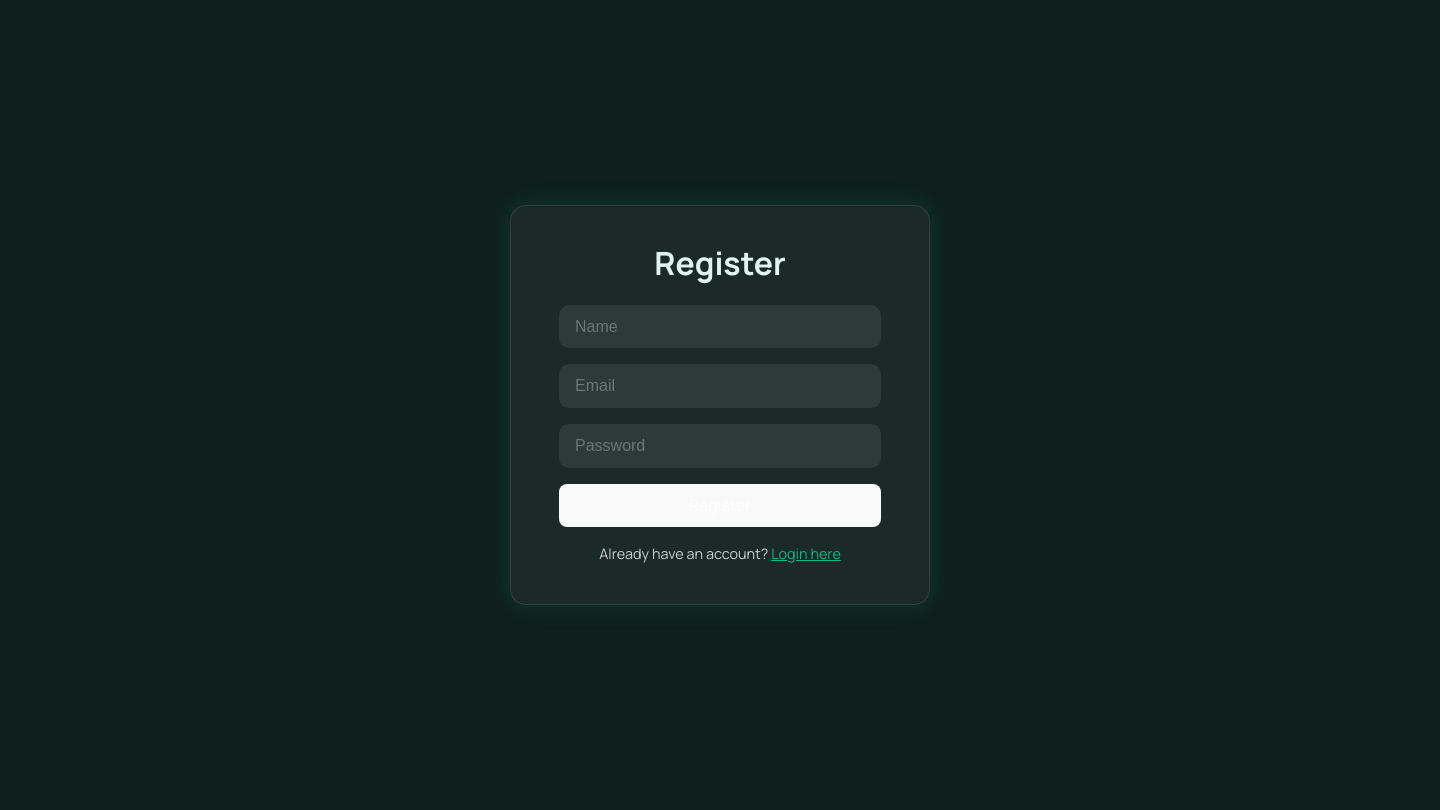
it: Register component › shows error on register failure
Type "John" into the field with placeholder "Name" at (720, 327), box 559,305 -> 881,348
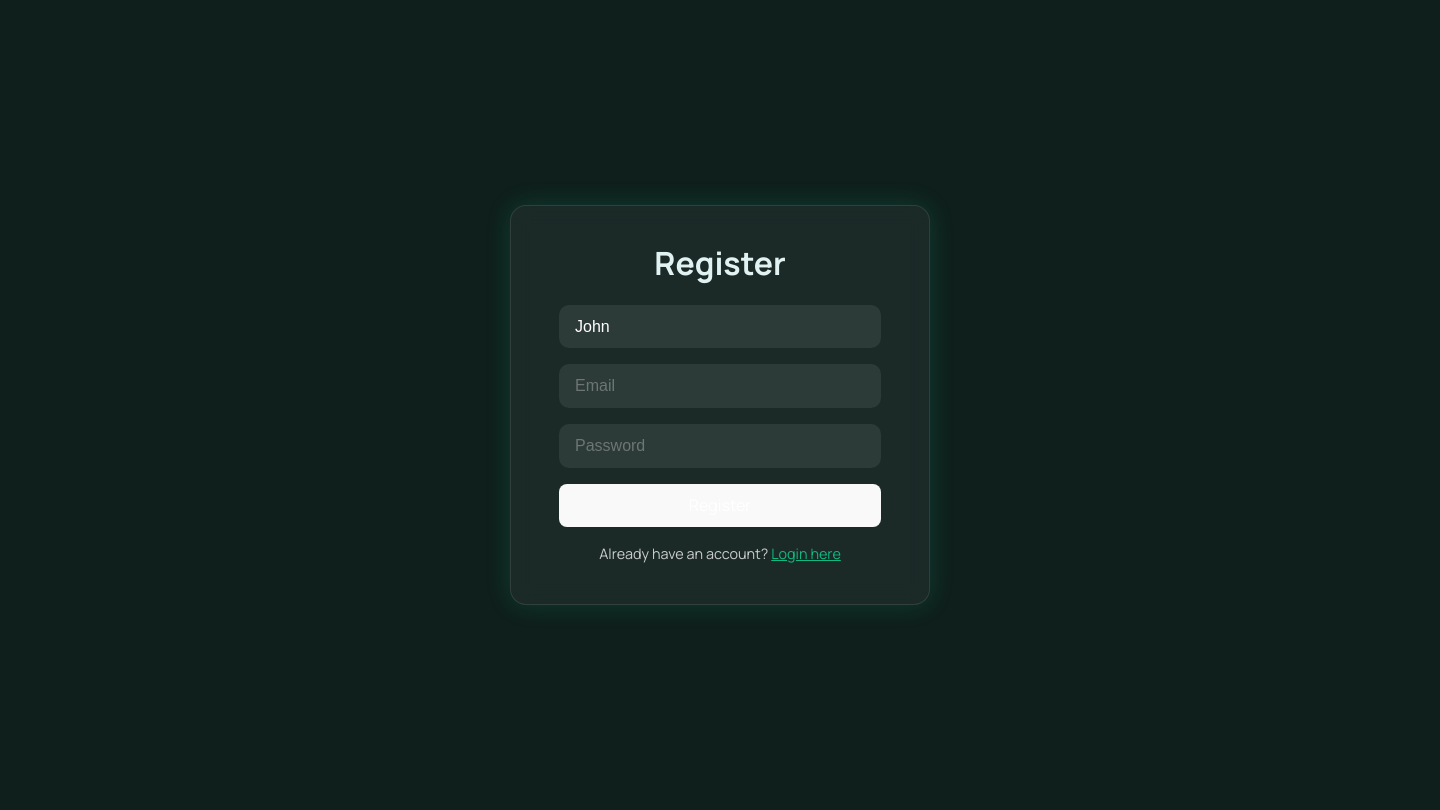
Type "john@example.com" into the field with placeholder "Email" at (720, 386), box 559,364 -> 881,408
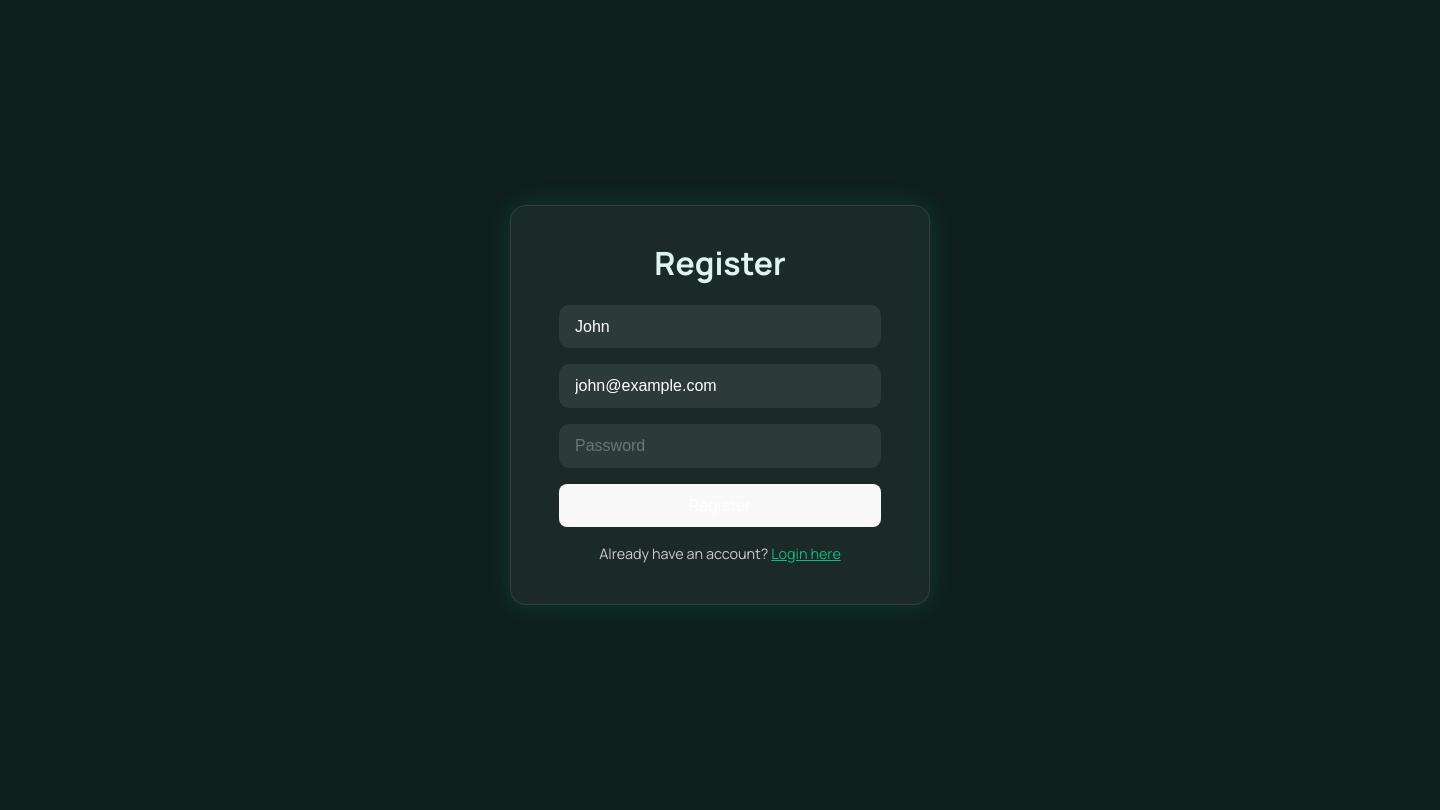
Type "password123" into the password field with placeholder "Password" at (720, 446), box 559,424 -> 881,468
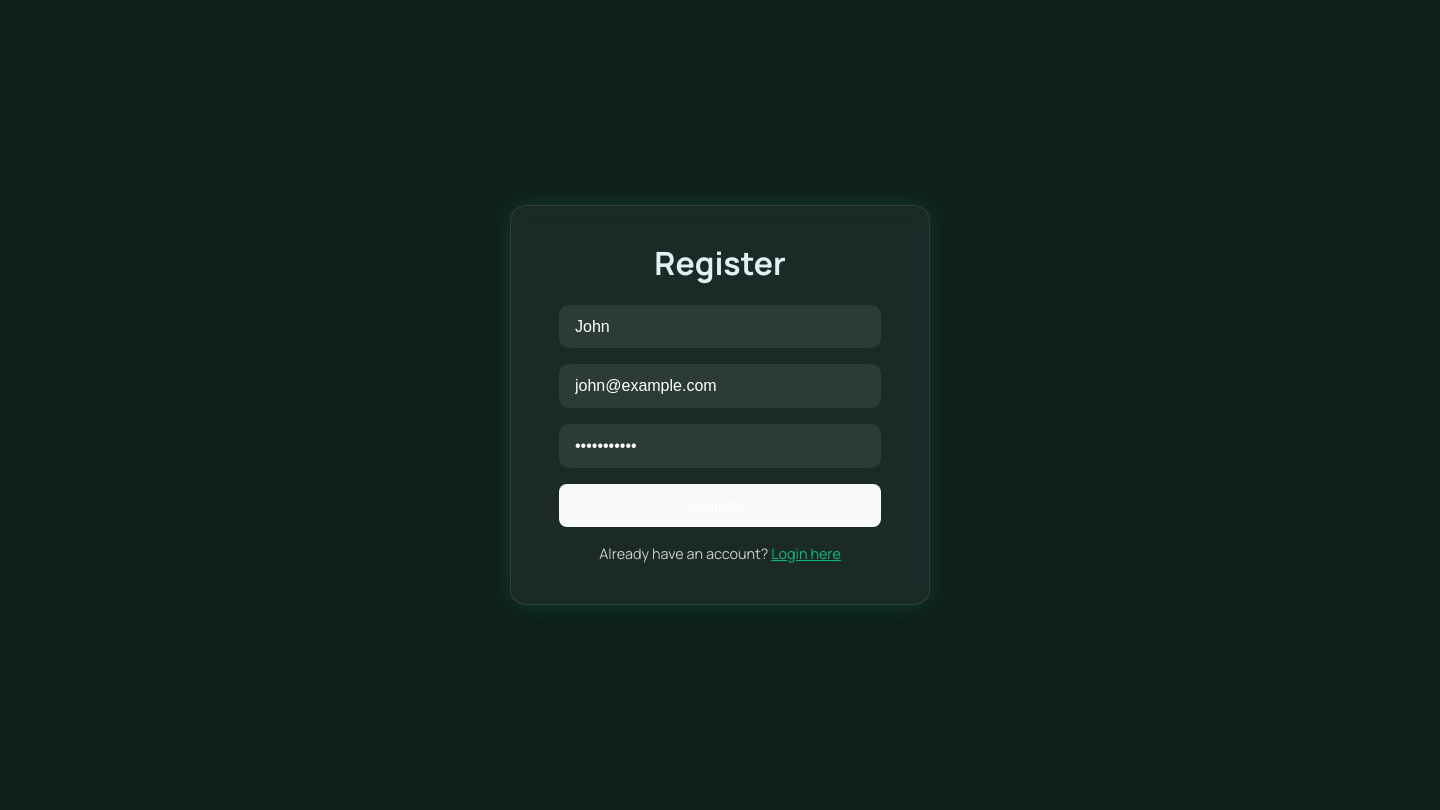
Click the button "Register" at (720, 505), box 559,484 -> 881,527
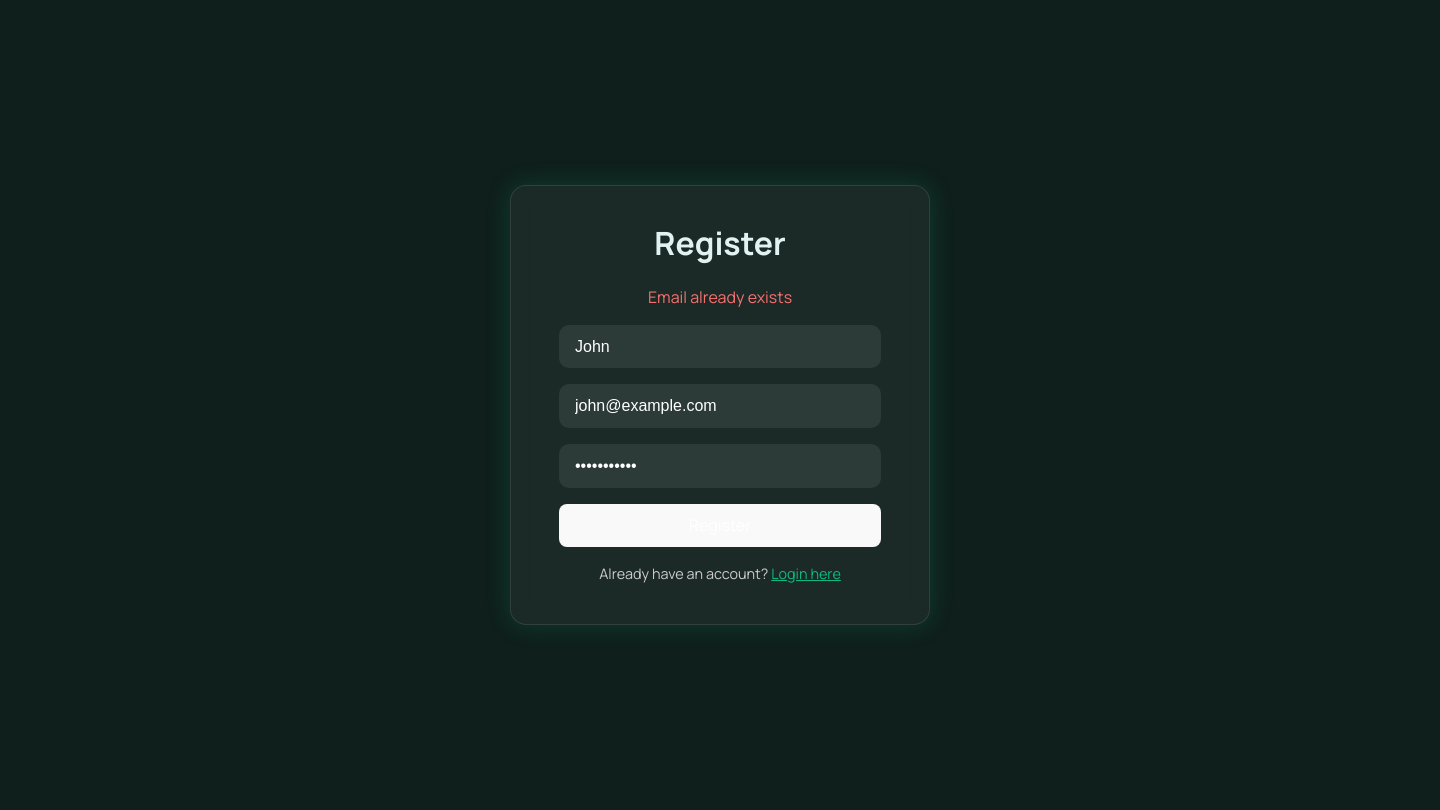
Expected: the text with test id "error-message" reads "Email already exists", 648,286 -> 792,308
